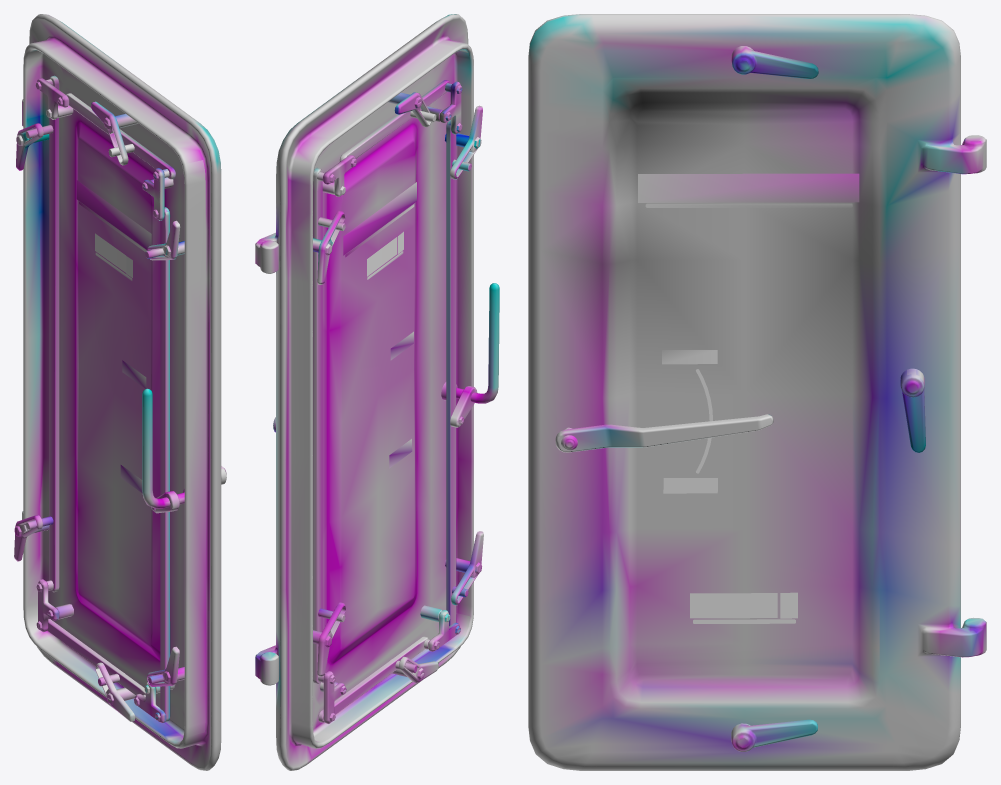
Rendered from SM_Uboat_Inside_Door-A1.fbx.
3 views of the same model, side by side, from view 1: azimuth 30°, elevation 25°; view 2: azimuth 150°, elevation 25°; view 3: azimuth 270°, elevation 25° (orthographic). The views are drawn at different scales.
Parts seen in each view (by area): view 1: SM_Uboat_Inside_Door-A1_LOD0; view 2: SM_Uboat_Inside_Door-A1_LOD0; view 3: SM_Uboat_Inside_Door-A1_LOD0.
Boxes of the visible parts, x1,y1,x2,y2 form: SM_Uboat_Inside_Door-A1_LOD0: (14,14,226,770); SM_Uboat_Inside_Door-A1_LOD0: (255,14,499,770); SM_Uboat_Inside_Door-A1_LOD0: (528,14,986,770).
Bounding box in the file's own units: 33.42 × 129 × 236.
